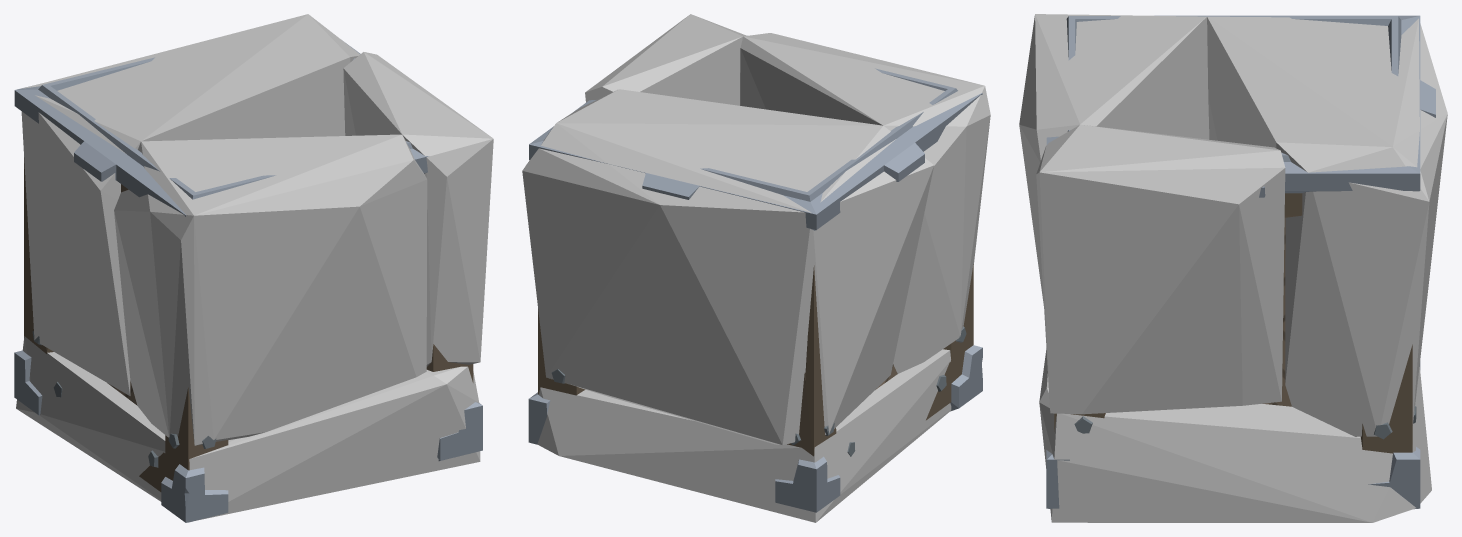
The model's file is SM_Prop_Crate_08.fbx.
3 renders of one model, left to right at view 1: azimuth 30°, elevation 25°; view 2: azimuth 150°, elevation 25°; view 3: azimuth 270°, elevation 25°, orthographic. The views are drawn at different scales.
Parts seen in each view (by area): view 1: SM_Prop_Crate_08_ConvexHulls, SM_Prop_Crate_08; view 2: SM_Prop_Crate_08_ConvexHulls, SM_Prop_Crate_08; view 3: SM_Prop_Crate_08_ConvexHulls, SM_Prop_Crate_08.
Part boxes in pixels (x1,y1,x2,y2): SM_Prop_Crate_08_ConvexHulls: [16, 14, 493, 520]; SM_Prop_Crate_08: [14, 40, 482, 522]; SM_Prop_Crate_08_ConvexHulls: [522, 14, 990, 522]; SM_Prop_Crate_08: [528, 35, 982, 512]; SM_Prop_Crate_08_ConvexHulls: [1019, 14, 1447, 522]; SM_Prop_Crate_08: [1046, 15, 1435, 509].
Size of the model in its own units: 98.01 by 99.57 by 94.16.
Materials: 2 (1 with a texture image).
